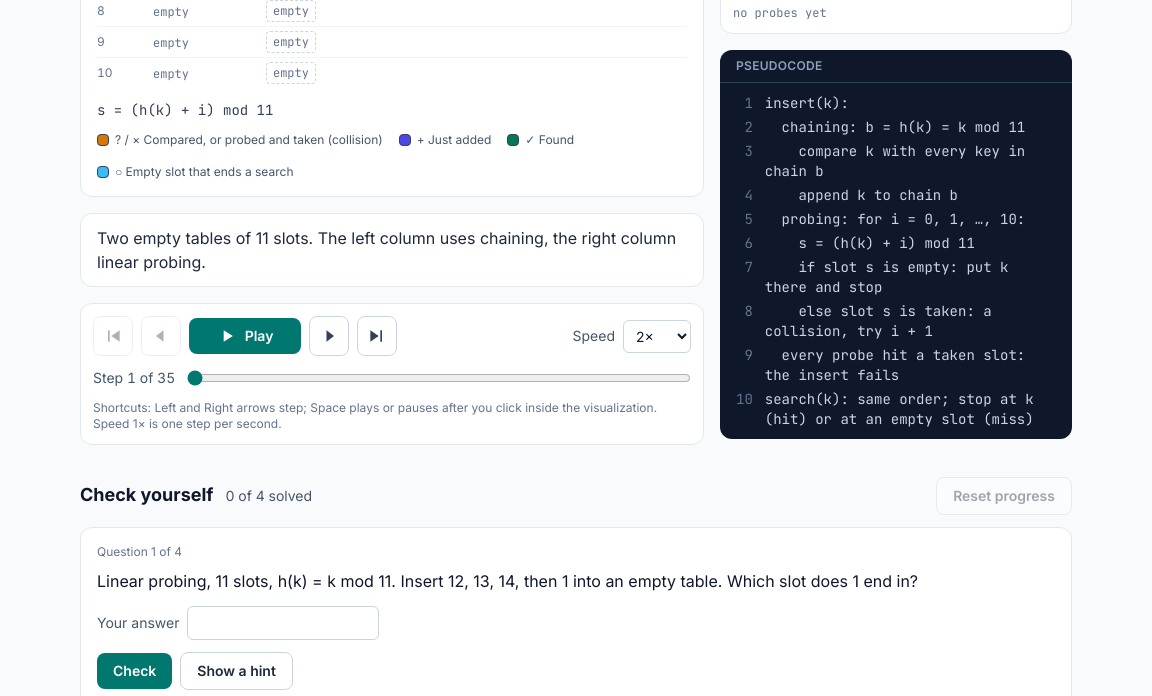
it: collision resolution lesson › fills both tables and compares the costs at the end
(page scrolled)
Click the button named "Next step": (329, 336) [309,316,349,356]
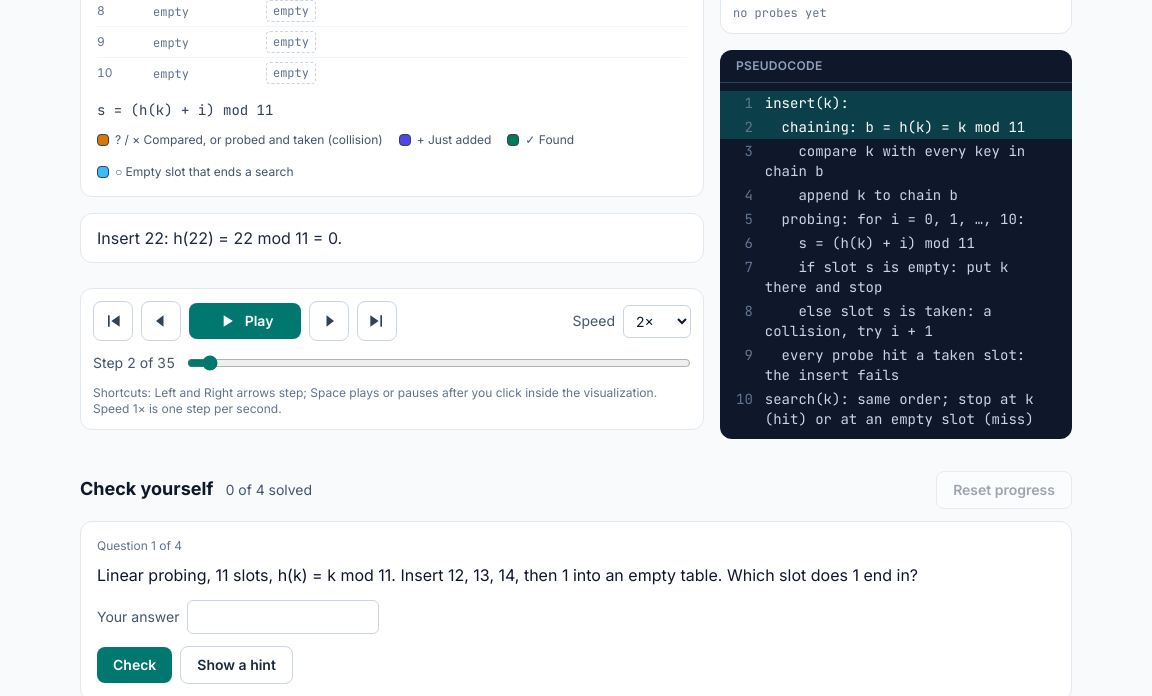
Check: the text "Insert 22: h(22) = 22 mod 11 = 0." is shown, box [80,213,704,263]
Click the button named "Last step": (377, 321) [357,301,397,341]
(page scrolled)
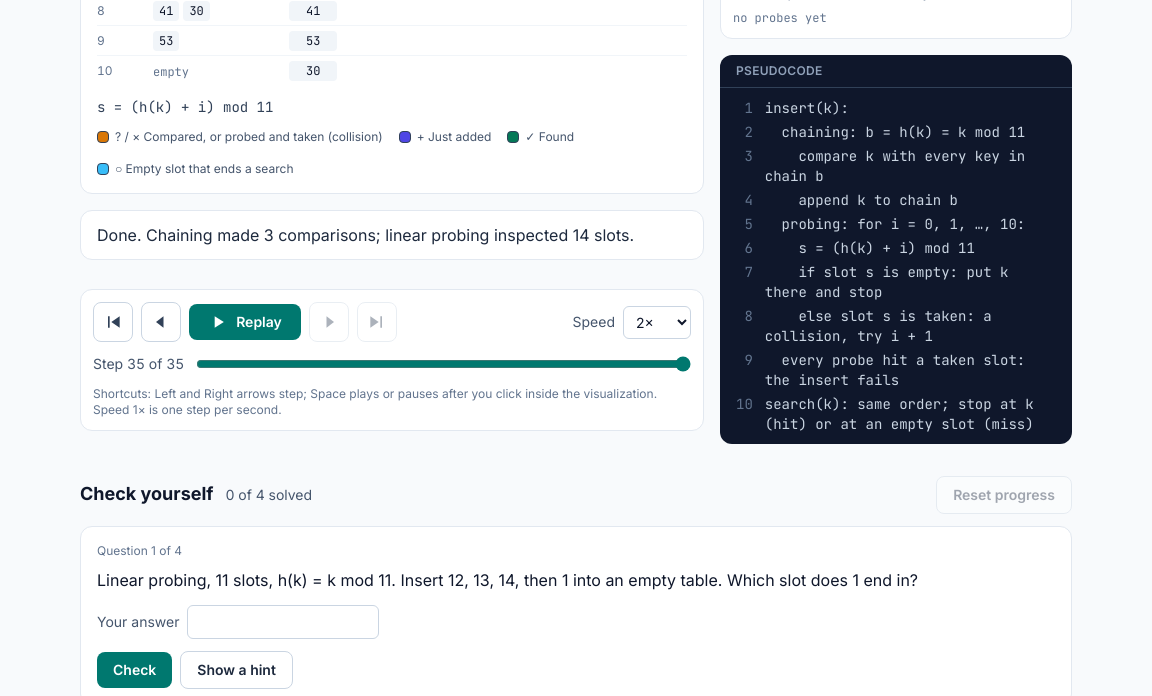
Check: the text "Done. Chaining made 3 comparisons; linear probing inspected 14 slots." is shown, box [80,210,704,260]
